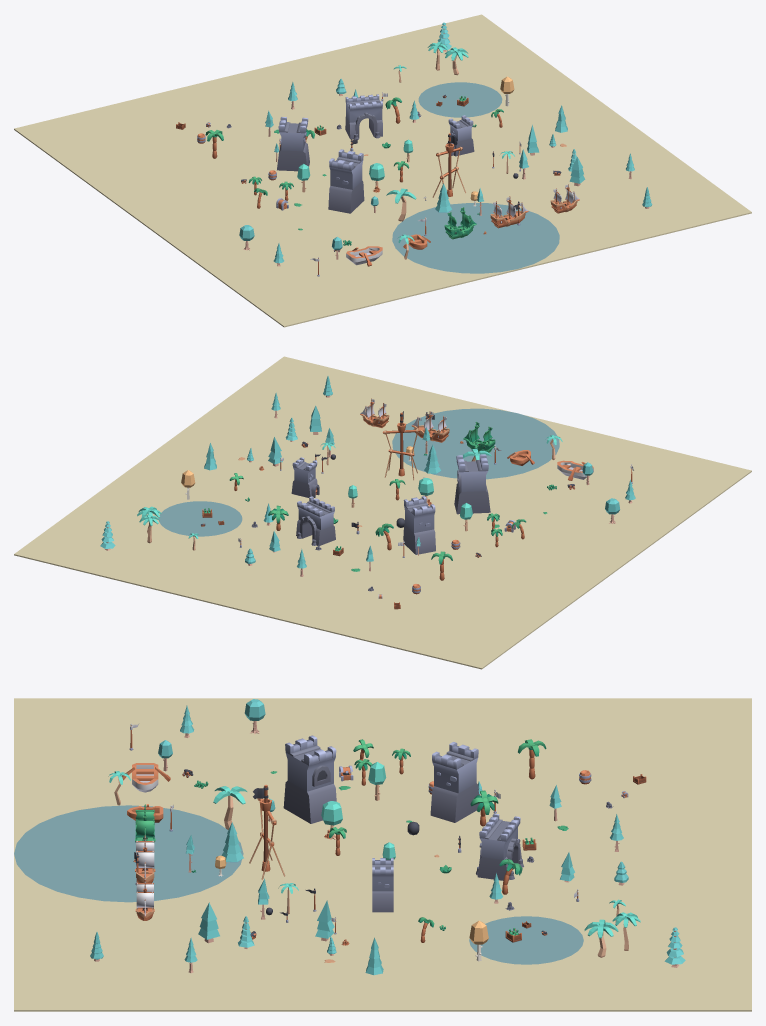
Rendered from world.glb.
The picture shows the model from 3 angles, top to bottom: view 1: azimuth 30°, elevation 25°; view 2: azimuth 150°, elevation 25°; view 3: azimuth 270°, elevation 25°; orthographic projection. The views are drawn at different scales.
Visible parts, largest first — view 1: Terrain, PondWater, PondWater.001, Fort_003_castle-window, Fort_002_castle-wall, Fort_001_castle-gate, Fort_000_castle-door, Fort_004_mast-ropes, Boat_003_ship-large, Boat_002_ship-ghost, Boat_000_boat-row-large; view 2: Terrain, PondWater, PondWater.001, Fort_003_castle-window, Fort_002_castle-wall, Fort_001_castle-gate, Fort_000_castle-door, Fort_004_mast-ropes, Boat_003_ship-large, Boat_002_ship-ghost; view 3: Terrain, PondWater, PondWater.001, Fort_003_castle-window, Fort_002_castle-wall, Fort_001_castle-gate, Fort_000_castle-door, Fort_004_mast-ropes, Boat_000_boat-row-large, Boat_003_ship-large, Boat_004_ship-medium, Boat_002_ship-ghost (+2 smaller).
Boxes of the visible parts, x1,y1,x2,y2 form: Terrain: (14, 14, 751, 327); PondWater: (392, 203, 559, 273); PondWater.001: (418, 82, 502, 117); Fort_003_castle-window: (328, 149, 364, 213); Fort_002_castle-wall: (277, 117, 309, 171); Fort_001_castle-gate: (345, 94, 382, 139); Fort_000_castle-door: (447, 115, 474, 156); Fort_004_mast-ropes: (432, 133, 465, 197); Boat_003_ship-large: (490, 196, 528, 228); Boat_002_ship-ghost: (444, 207, 476, 239); Boat_000_boat-row-large: (346, 246, 382, 266); Terrain: (14, 356, 751, 669); PondWater: (392, 408, 559, 479); PondWater.001: (158, 501, 242, 536); Fort_003_castle-window: (454, 454, 490, 514); Fort_002_castle-wall: (403, 496, 435, 554); Fort_001_castle-gate: (296, 496, 335, 545); Fort_000_castle-door: (291, 457, 319, 497); Fort_004_mast-ropes: (382, 411, 420, 480); Boat_003_ship-large: (411, 411, 449, 442); Boat_002_ship-ghost: (463, 421, 495, 452); Terrain: (14, 698, 751, 1011); PondWater: (14, 805, 243, 902); PondWater.001: (469, 916, 583, 964); Fort_003_castle-window: (283, 735, 336, 823); Fort_002_castle-wall: (430, 742, 479, 822); Fort_001_castle-gate: (476, 813, 523, 880); Fort_000_castle-door: (372, 858, 393, 912); Fort_004_mast-ropes: (249, 784, 285, 879); Boat_000_boat-row-large: (122, 763, 170, 792); Boat_003_ship-large: (135, 835, 155, 882); Boat_004_ship-medium: (135, 877, 154, 920); Boat_002_ship-ghost: (135, 804, 155, 842).
Size of the model in its own units: 180 by 23.26 by 180.
Materials: 103 (42 with a texture image).
